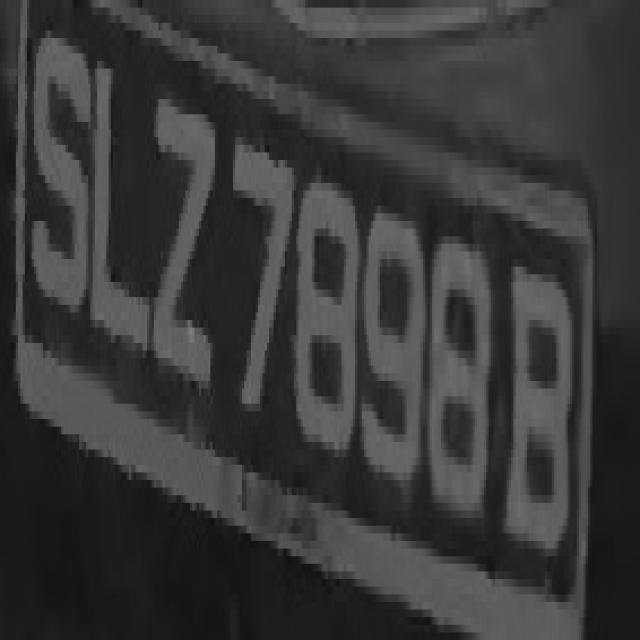7: (219, 114, 294, 488)
8: (425, 214, 498, 548), (292, 137, 359, 495)
9: (355, 168, 427, 518)
B: (511, 251, 575, 579)
L: (88, 54, 147, 388)
S: (29, 0, 86, 320)
Z: (152, 69, 220, 419)
